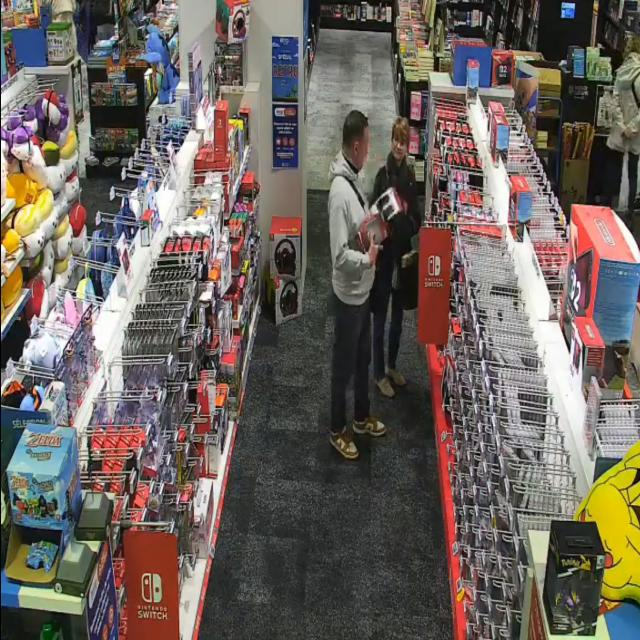article: (375, 187, 404, 222), (363, 213, 388, 249), (360, 226, 369, 251), (356, 233, 366, 253), (404, 201, 408, 215)
bags: (397, 252, 418, 310)
hands: (368, 233, 379, 265), (623, 125, 631, 137)
person: (329, 111, 385, 459), (371, 118, 421, 397), (608, 37, 639, 222)
